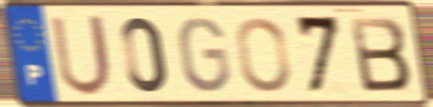0: (119, 15, 169, 96)
7: (295, 13, 343, 96)
B: (346, 15, 414, 94)
G: (176, 15, 233, 95)
O: (233, 14, 293, 95)
U: (47, 12, 115, 99)
